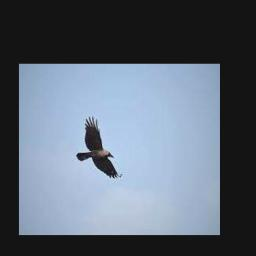Crow: (76, 116, 118, 178)
